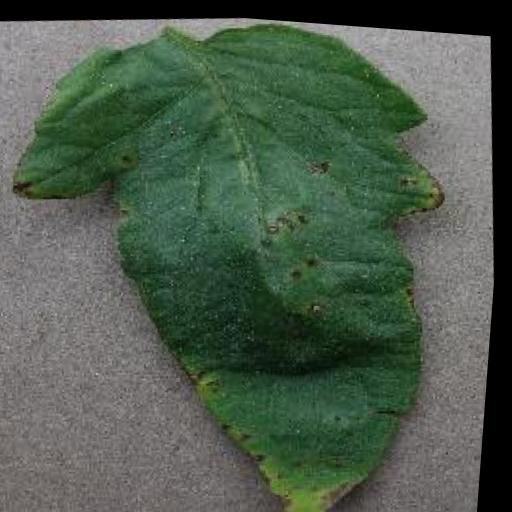Bacterial Spot: (0, 0, 488, 512)
